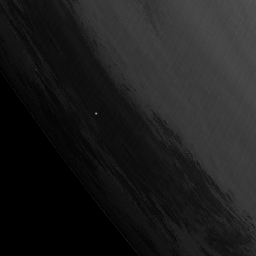Target: (94, 111, 98, 115)
